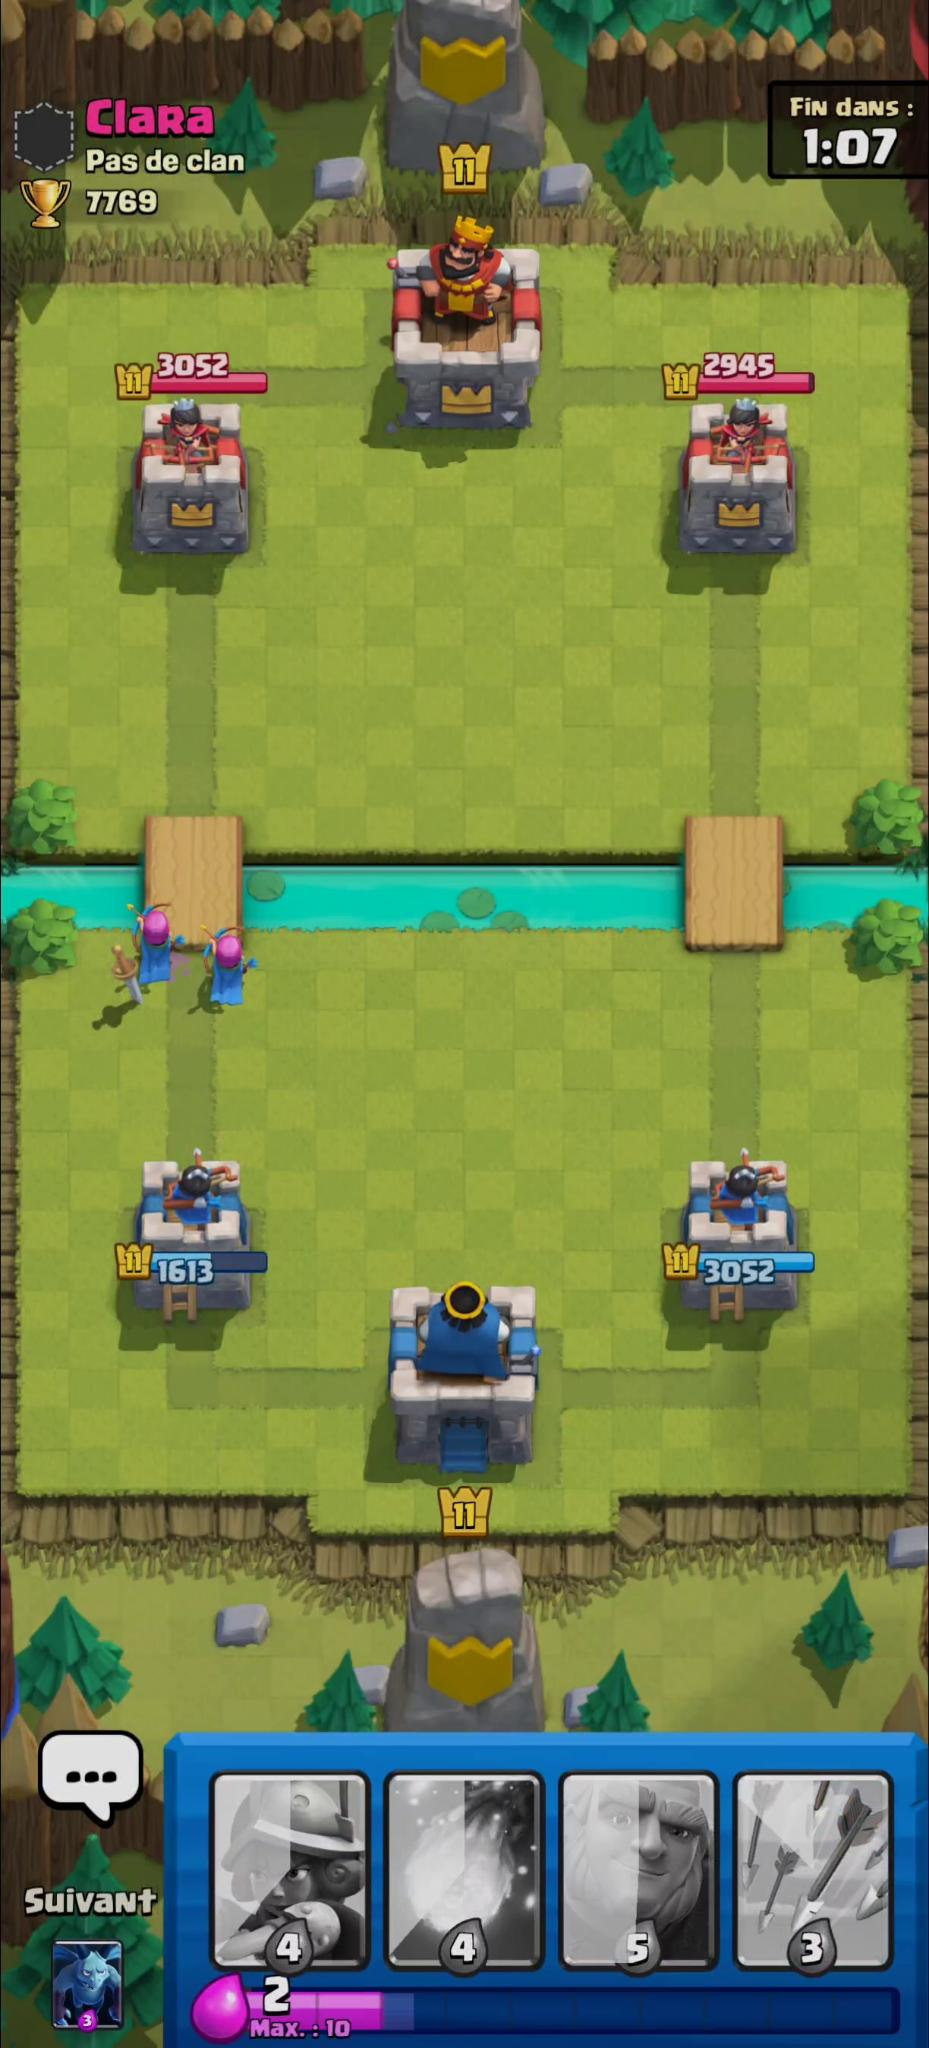archere: (192, 920, 263, 1019), (127, 899, 188, 993)
